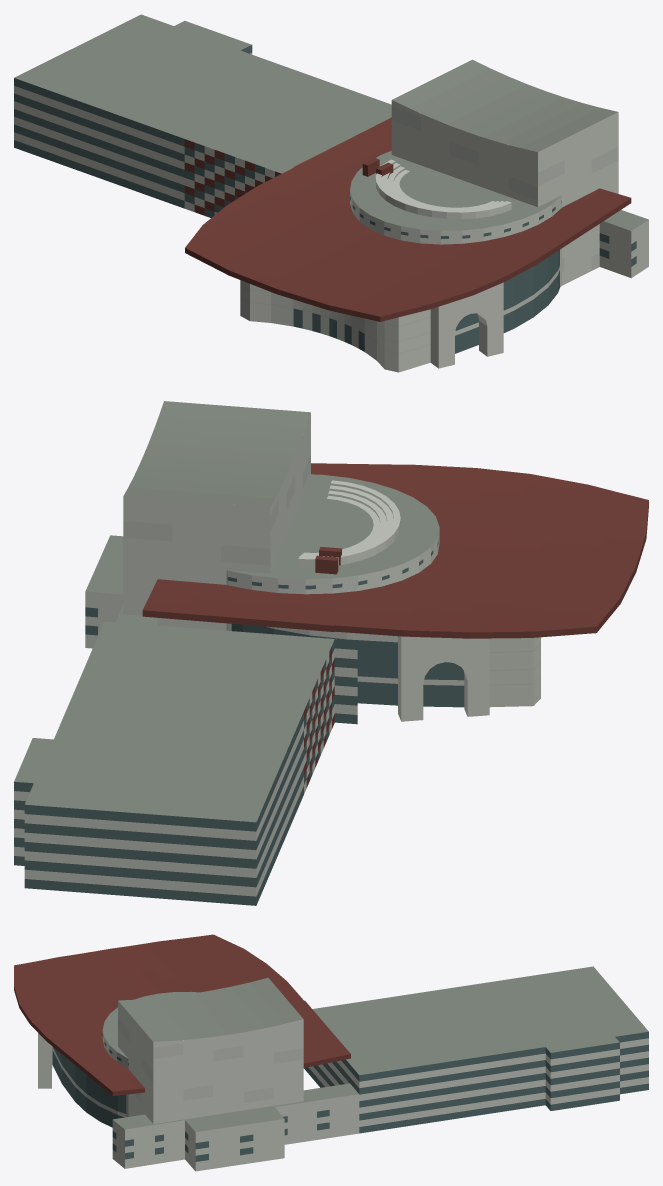
File: national-theatre-bucharest-far.glb
3 views of the same model, one above another, from view 1: azimuth 30°, elevation 25°; view 2: azimuth 150°, elevation 25°; view 3: azimuth 270°, elevation 25° (orthographic). The views are drawn at different scales.
Parts seen in each view (by area): view 1: national-theatre-bucharest-0-roof, national-theatre-bucharest-0-stone, national-theatre-bucharest-0-red, national-theatre-bucharest-0-glass, national-theatre-bucharest-0-stone2; view 2: national-theatre-bucharest-0-roof, national-theatre-bucharest-0-red, national-theatre-bucharest-0-stone, national-theatre-bucharest-0-glass, national-theatre-bucharest-0-stone2; view 3: national-theatre-bucharest-0-stone, national-theatre-bucharest-0-roof, national-theatre-bucharest-0-red, national-theatre-bucharest-0-glass, national-theatre-bucharest-0-stone2.
Part boxes in pixels (box(x1,y1,x2,y2)): national-theatre-bucharest-0-roof: box(14, 14, 648, 230); national-theatre-bucharest-0-stone: box(14, 53, 648, 372); national-theatre-bucharest-0-red: box(184, 117, 631, 321); national-theatre-bucharest-0-glass: box(14, 45, 636, 353); national-theatre-bucharest-0-stone2: box(240, 107, 618, 354); national-theatre-bucharest-0-roof: box(14, 401, 439, 822); national-theatre-bucharest-0-red: box(142, 463, 648, 787); national-theatre-bucharest-0-stone: box(14, 413, 540, 896); national-theatre-bucharest-0-glass: box(14, 541, 464, 905); national-theatre-bucharest-0-stone2: box(123, 454, 540, 685); national-theatre-bucharest-0-stone: box(38, 1001, 648, 1171); national-theatre-bucharest-0-roof: box(103, 966, 648, 1131); national-theatre-bucharest-0-red: box(14, 934, 350, 1095); national-theatre-bucharest-0-glass: box(52, 1031, 648, 1161); national-theatre-bucharest-0-stone2: box(52, 1018, 303, 1116).
Bounding box in the file's own units: 116 × 38.6 × 183.
